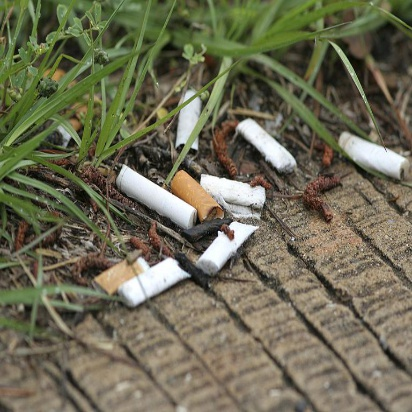cigarette: (112, 164, 196, 234), (334, 131, 411, 183), (194, 216, 263, 274), (236, 120, 301, 177), (123, 259, 190, 307), (173, 171, 224, 231), (200, 172, 272, 207), (174, 86, 208, 148), (94, 254, 145, 293)
